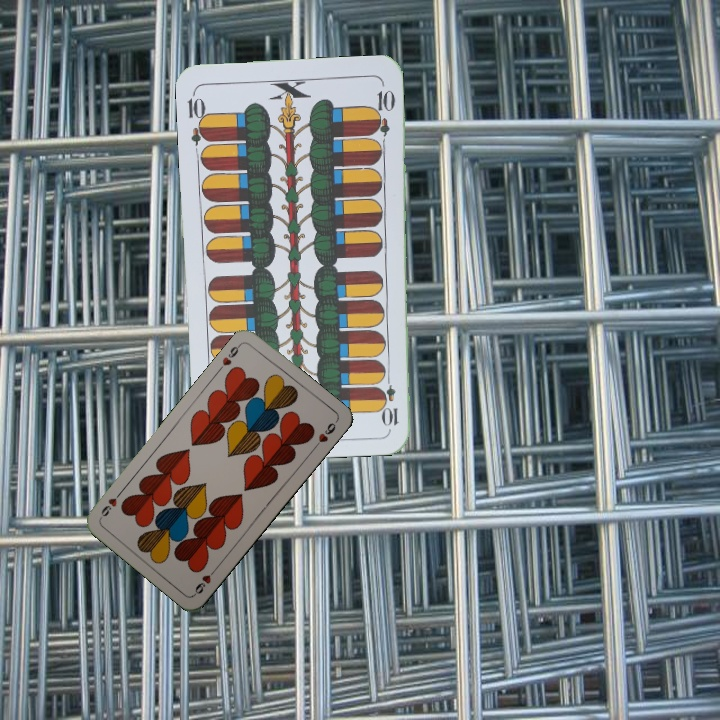E10: (184, 88, 211, 147), (381, 370, 401, 429)
H9: (190, 563, 220, 597), (214, 339, 244, 373)
